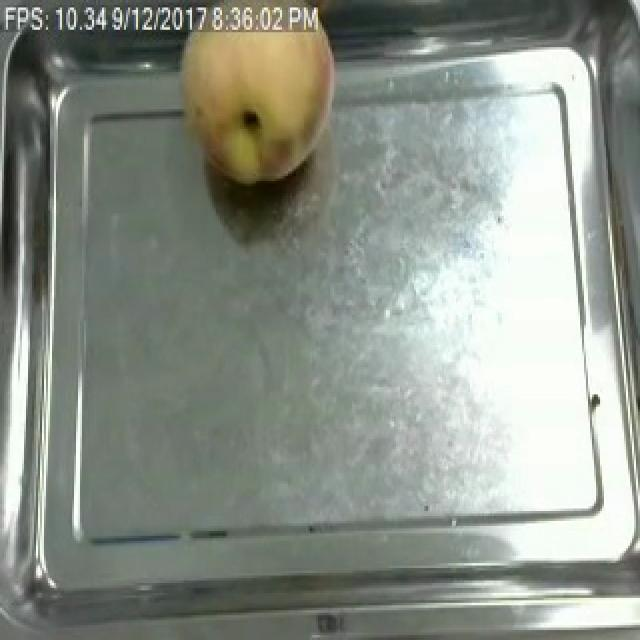Fruit: (170, 28, 350, 194)
